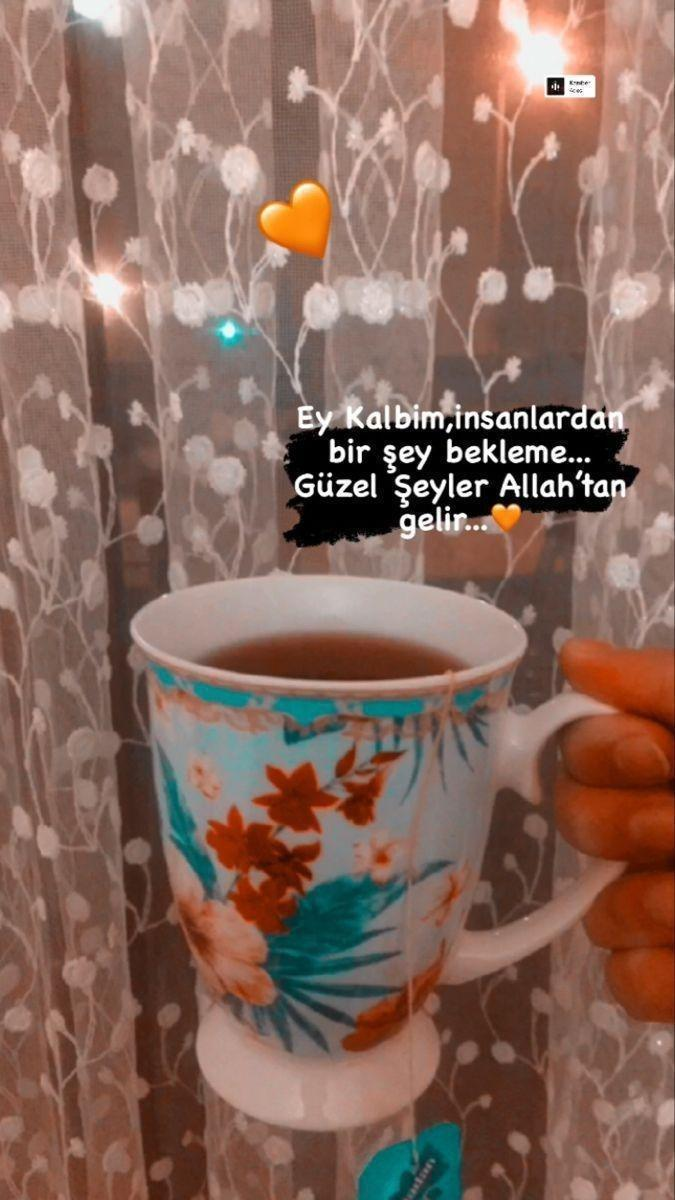cup-handle: (128, 574, 645, 1135)
